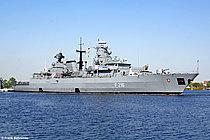MIL_Ship: (11, 35, 199, 96)
